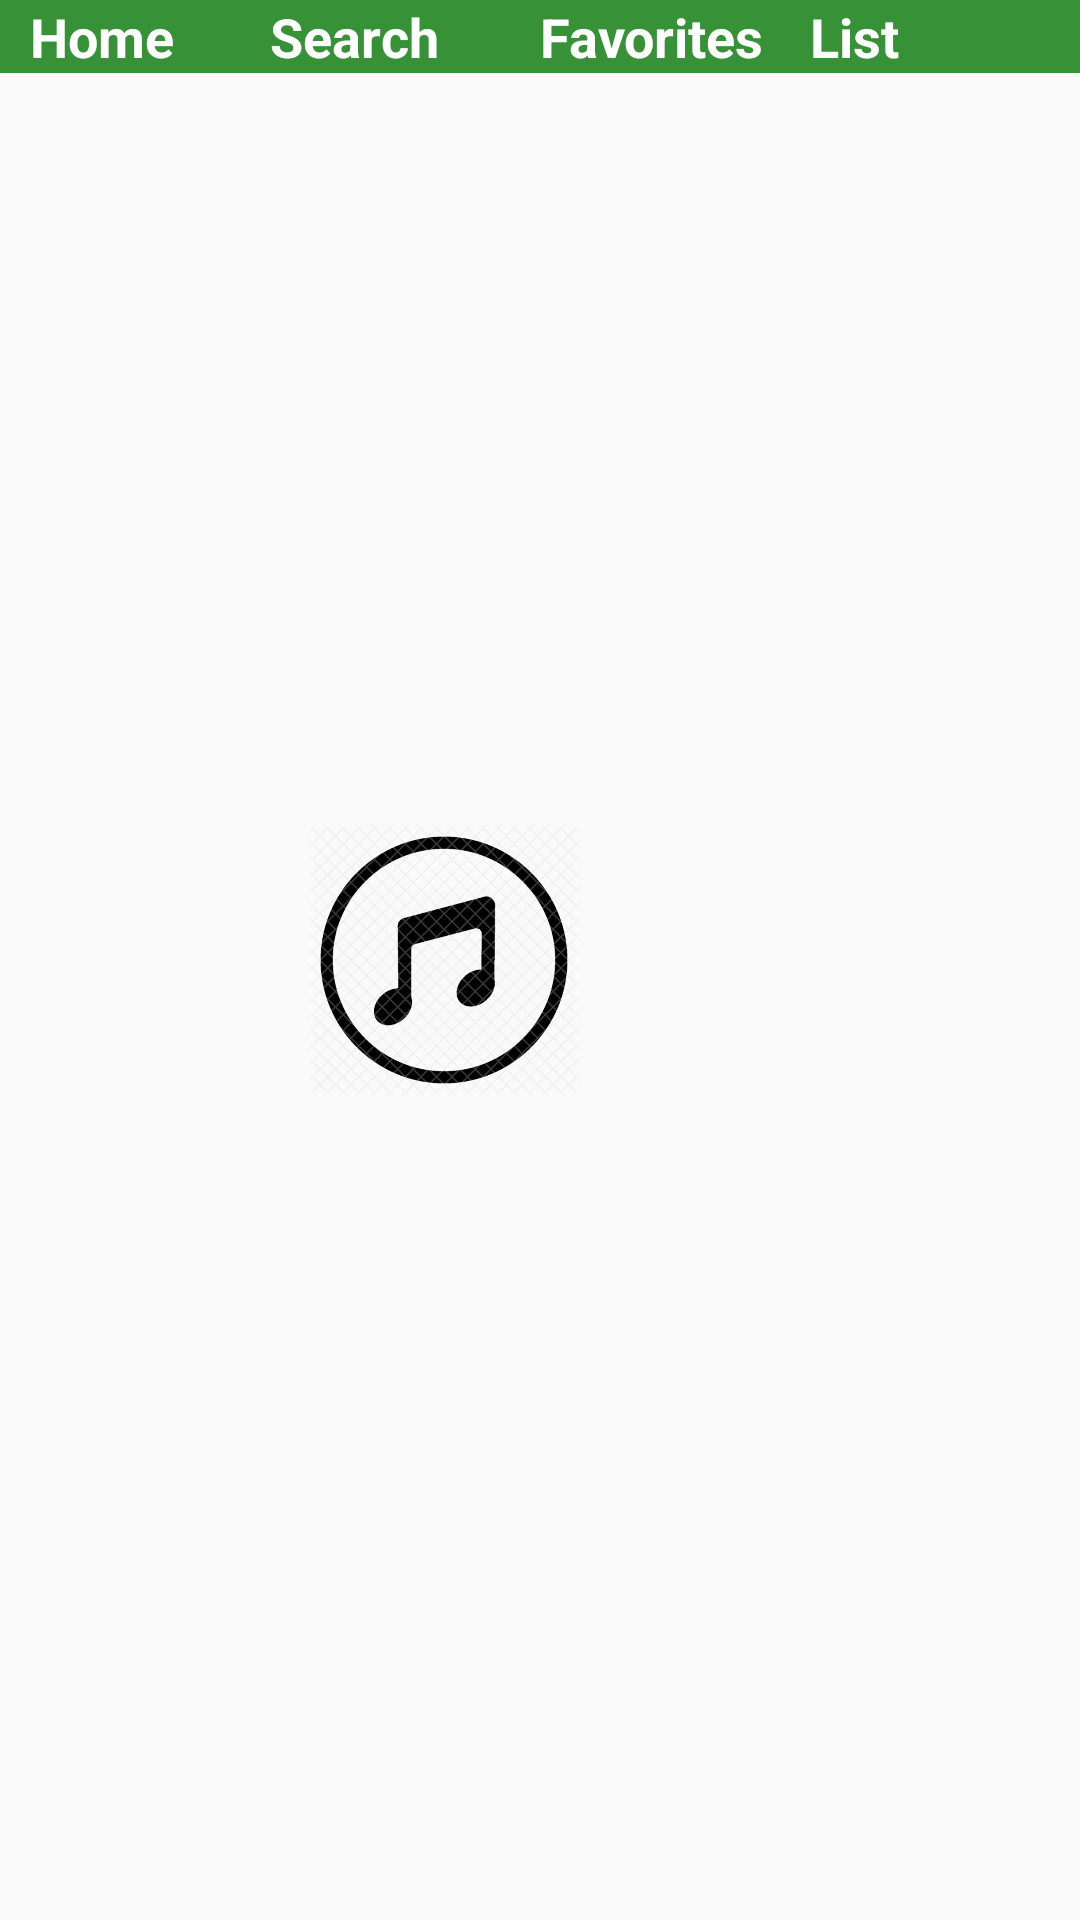

Icon bounding boxes for this 1080×1920 phone screenshot, format {"x1": x1, "y1": y1, "x2": x2, "y2": y2}:
sonido: {"x1": 320, "y1": 836, "x2": 568, "y2": 1084}
